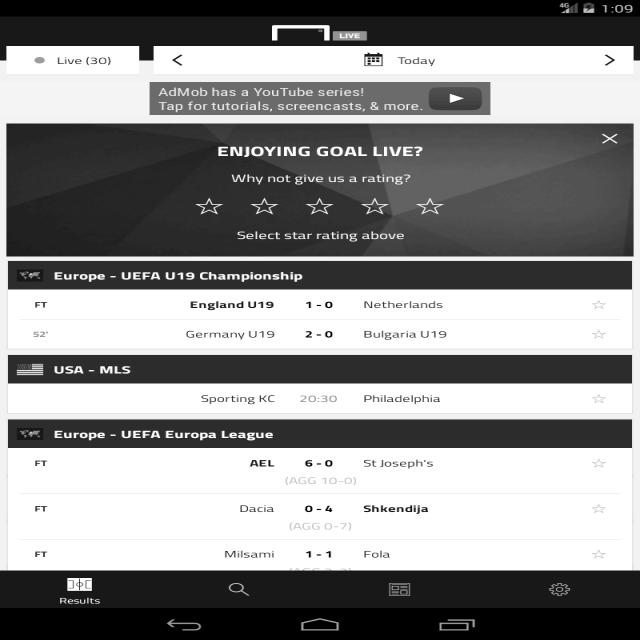Button: (2, 43, 146, 77), (428, 86, 486, 110)
ImageButton: (382, 578, 424, 600), (220, 576, 262, 598), (536, 576, 578, 596), (592, 128, 627, 150)
ImageView: (358, 50, 386, 70), (15, 361, 42, 379)
RatingBar: (190, 198, 456, 220)
TextView: (154, 87, 422, 113), (209, 139, 429, 163), (49, 268, 308, 284), (51, 427, 286, 443), (233, 228, 411, 246), (49, 362, 136, 376), (196, 392, 277, 406), (389, 51, 440, 70), (217, 544, 281, 559), (356, 457, 434, 468), (232, 498, 278, 516), (359, 543, 395, 561), (297, 500, 337, 514)
